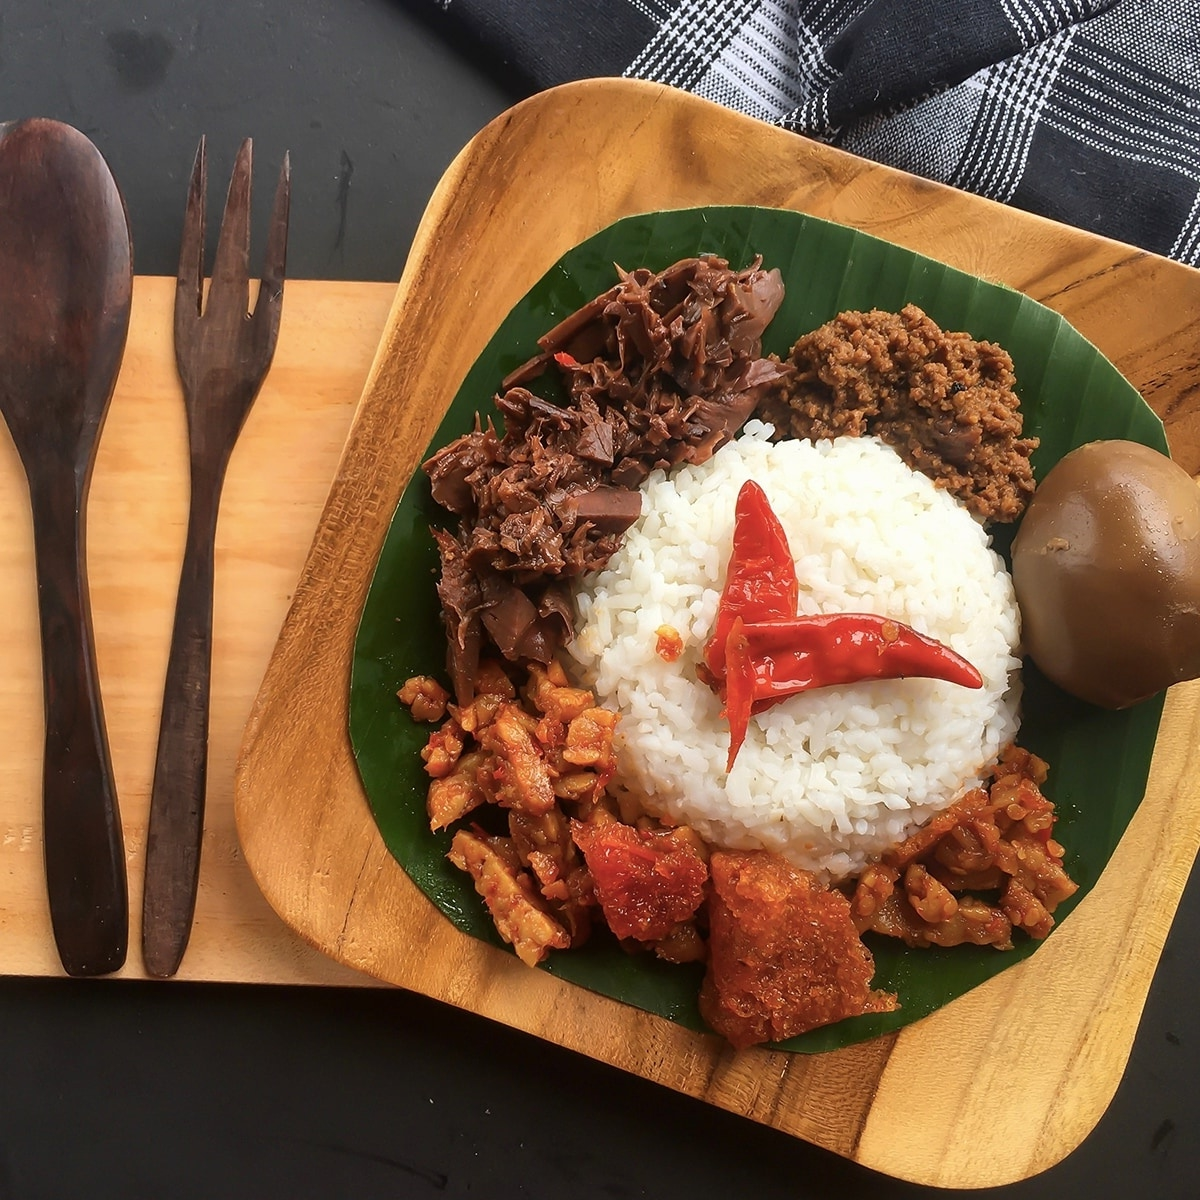gudeg: (398, 254, 1200, 1043)
